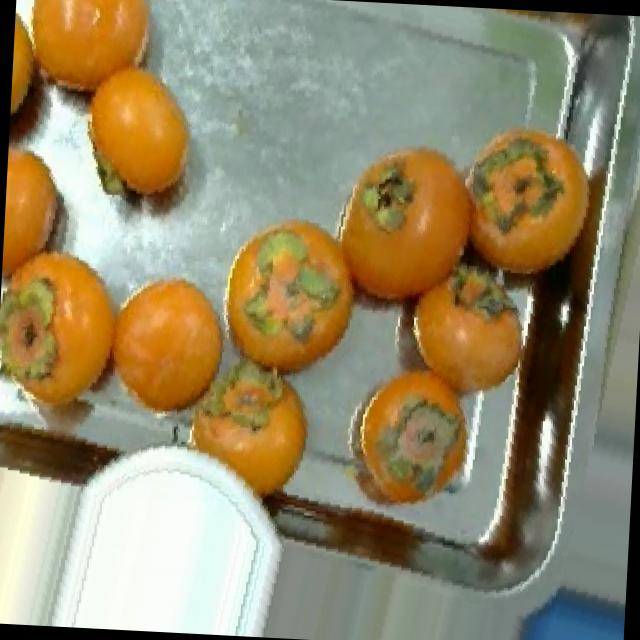Fruit: (213, 198, 376, 412), (62, 39, 222, 238), (453, 106, 597, 312), (90, 252, 243, 439), (168, 348, 330, 524), (331, 373, 501, 535), (2, 130, 82, 276)
